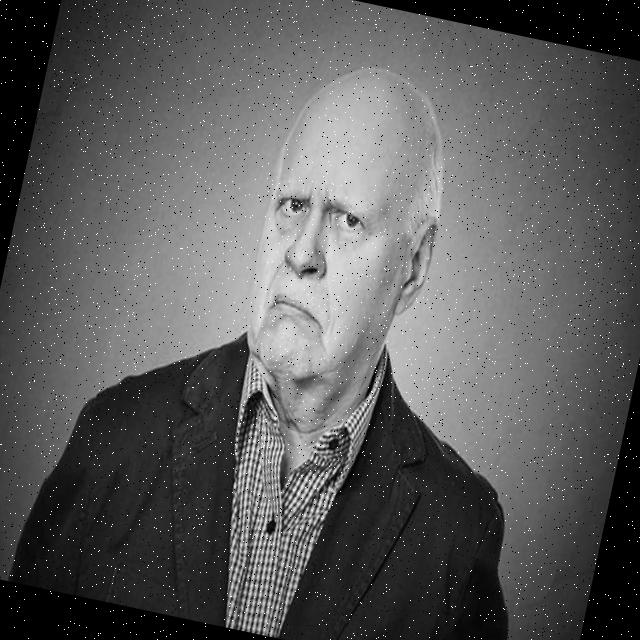Disgust: (229, 52, 444, 400)
